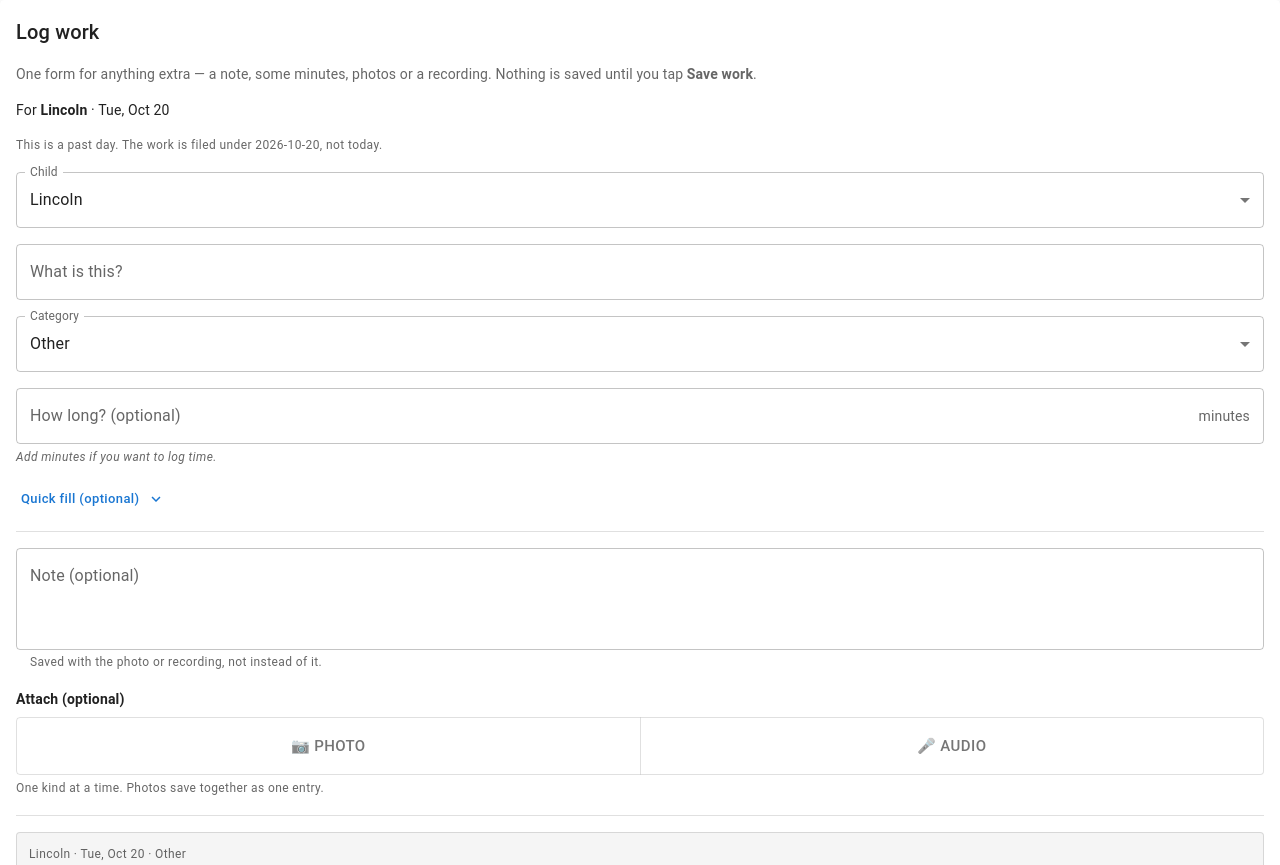
Test: UnifiedCaptureCard — filing ordinary extra work (FIX-266) › tells a parent what the form is, and that the quick fill is a shortcut
expect the text "Nothing is saved until you tap" is shown: met, box x1=16 y1=66 x2=687 y2=82
Click the button "Quick fill (optional)". click: (92, 499)
box: x1=16 y1=484 x2=168 y2=515
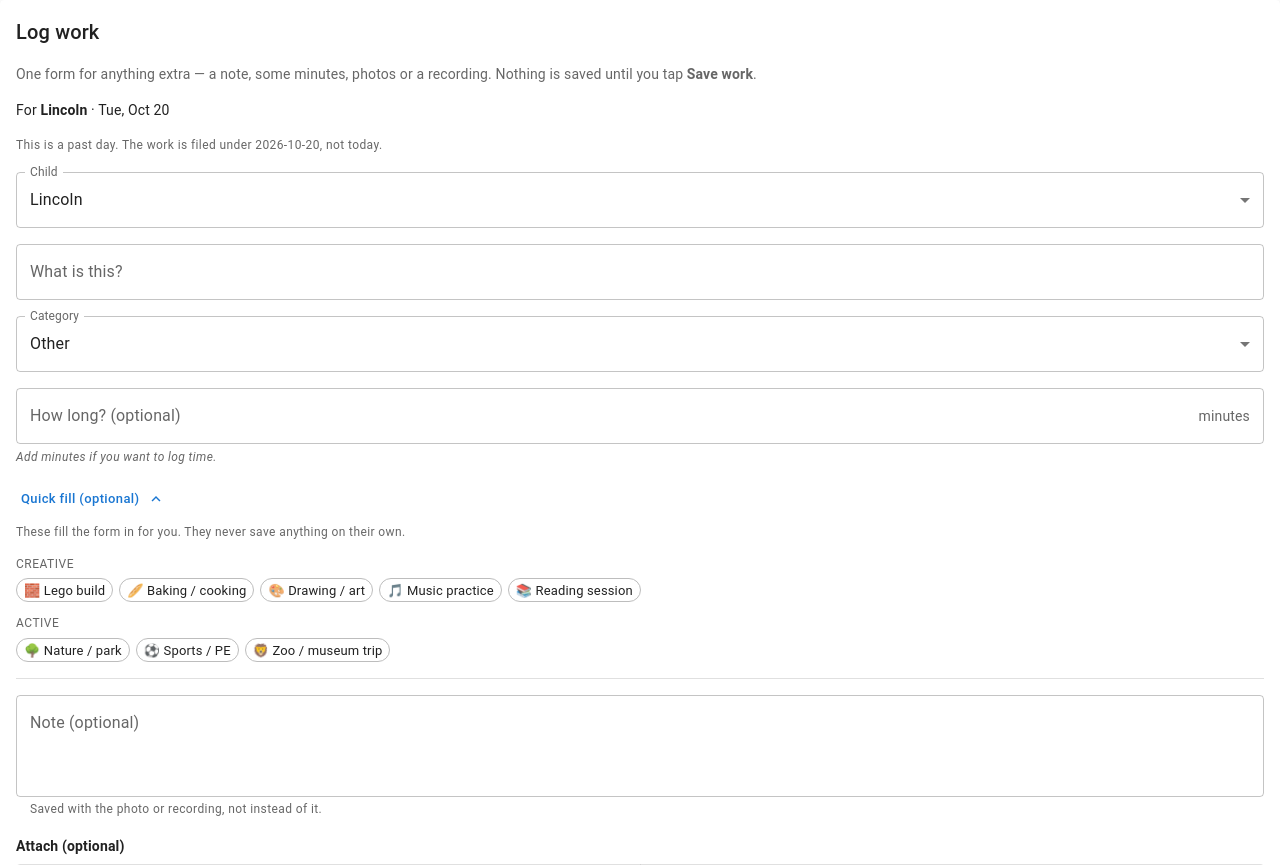
expect the text "never save anything on their own" is shown: met, box x1=16 y1=525 x2=406 y2=539
